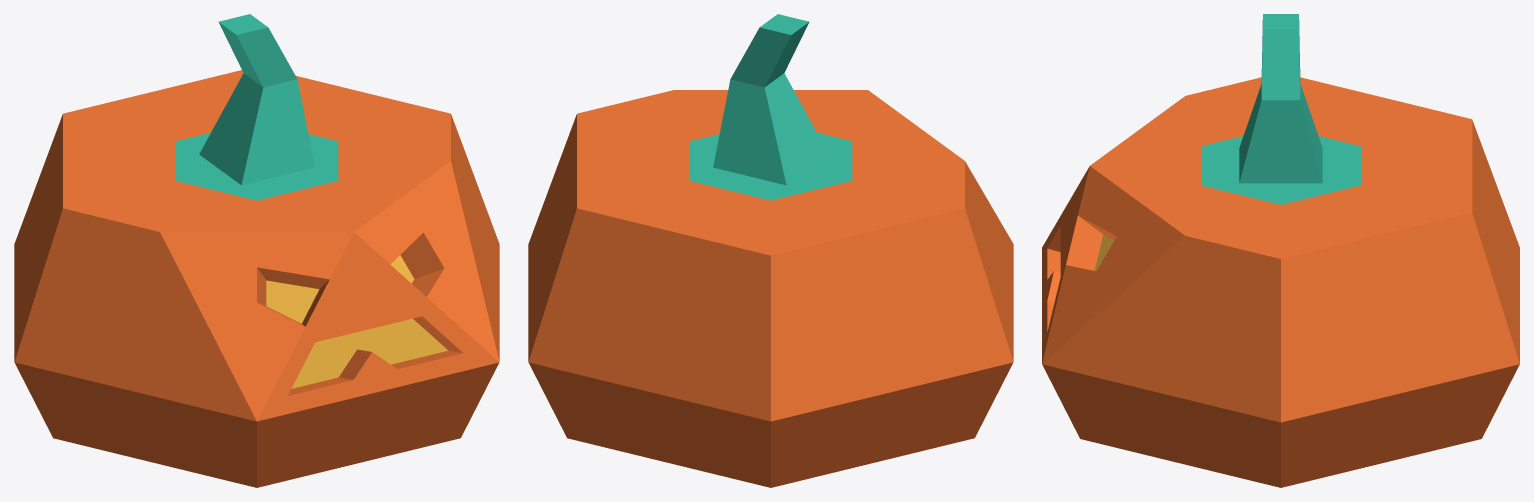
File: pumpkinCarved.obj
The picture shows the model from 3 angles, left to right: view 1: azimuth 30°, elevation 25°; view 2: azimuth 150°, elevation 25°; view 3: azimuth 270°, elevation 25°; orthographic projection.
Visible parts, largest first — view 1: pumpkinCarved; view 2: pumpkinCarved; view 3: pumpkinCarved.
Part boxes in pixels (<box>): pumpkinCarved: <box>14,14,499,487</box>; pumpkinCarved: <box>528,14,1013,487</box>; pumpkinCarved: <box>1042,14,1519,487</box>.
Size of the model in its own units: 0.357 by 0.2583 by 0.3092.
